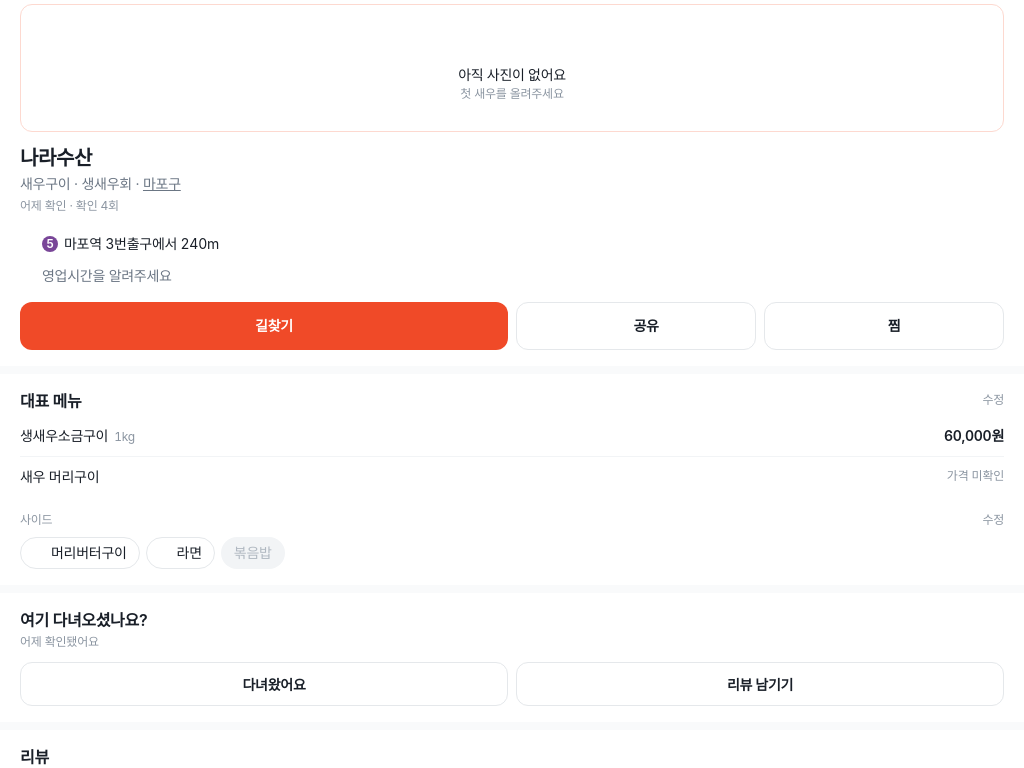
Scenario: 값 제안 시트 — 영업시간·주소·대표 메뉴·사이드 (design 화면 2 값 폼 시트) › 빈 값이면 지연 없이 필드 오류, 채우면 바로 반영되고 시트가 닫히며 토스트
The image size is (1024, 768).
Click the button "영업시간을 알려주세요" at point(107, 275), box [20,266,1004,286]
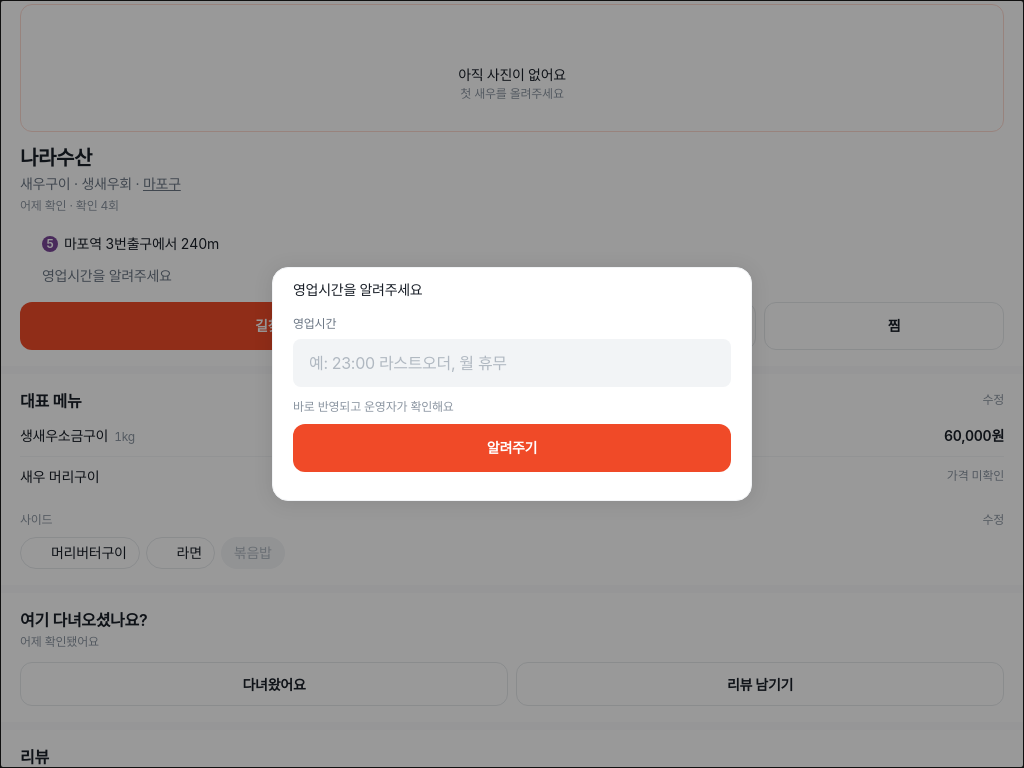
Click the button "알려주기" at point(512, 448), box [293,424,731,472]
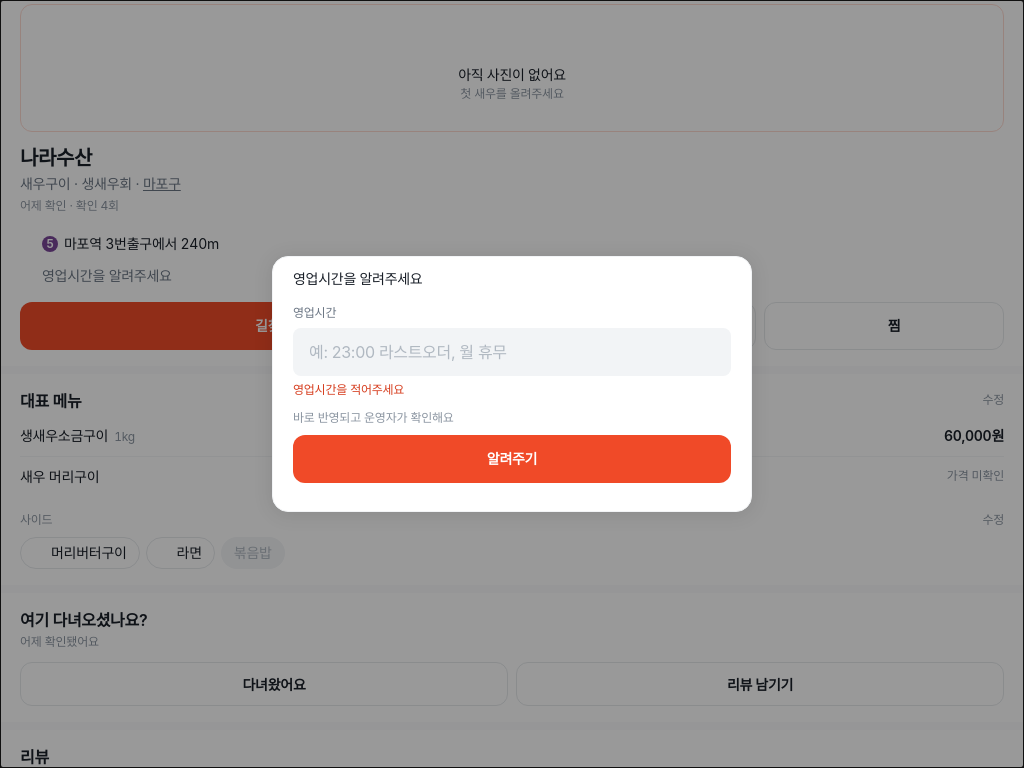
Check: the message reads "영업시간을 적어주세요", box [293,382,404,397]
Type " 24시간 영업 " into the field labelled "영업시간" at point(512, 352), box [309,328,715,376]
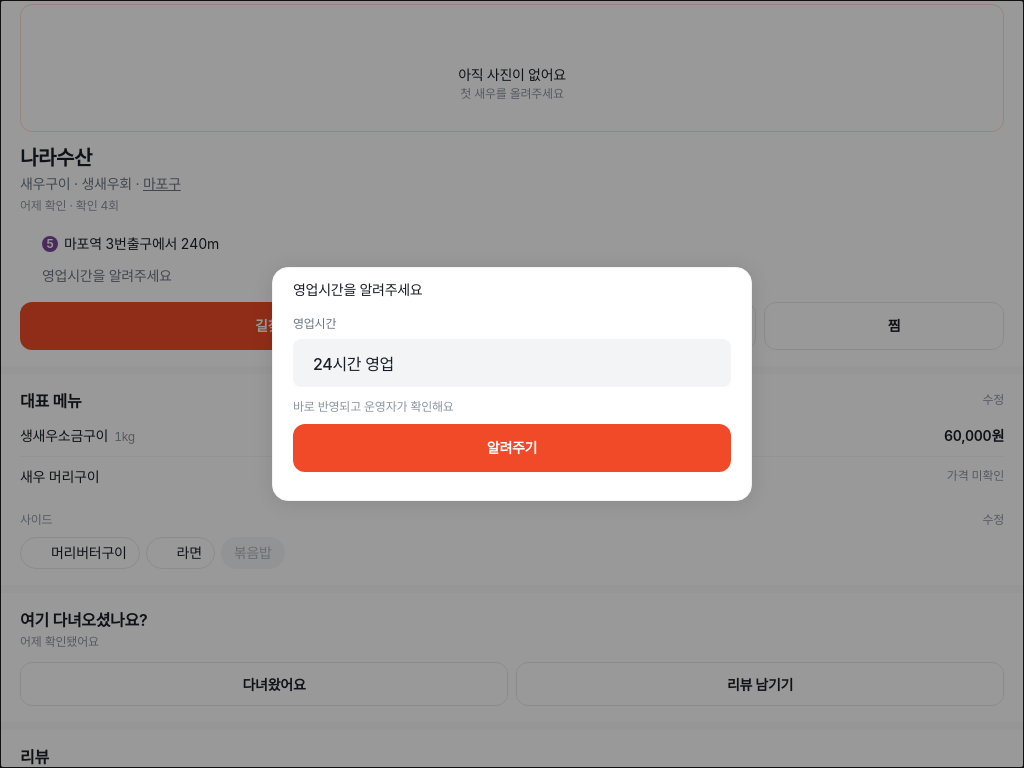
Click the button "알려주기" at point(512, 448), box [293,424,731,472]
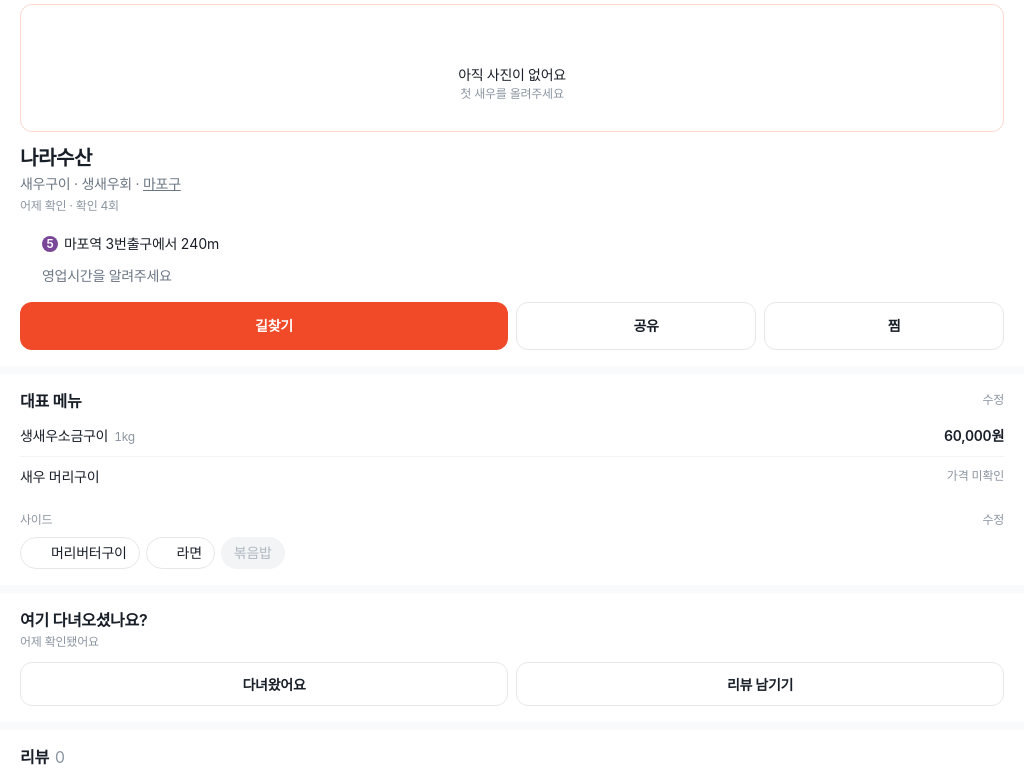
Check: the dialog is gone
